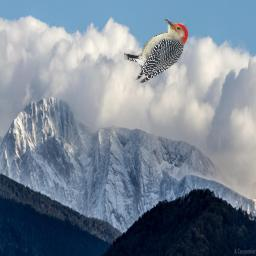Woodpecker: (124, 19, 188, 83)
